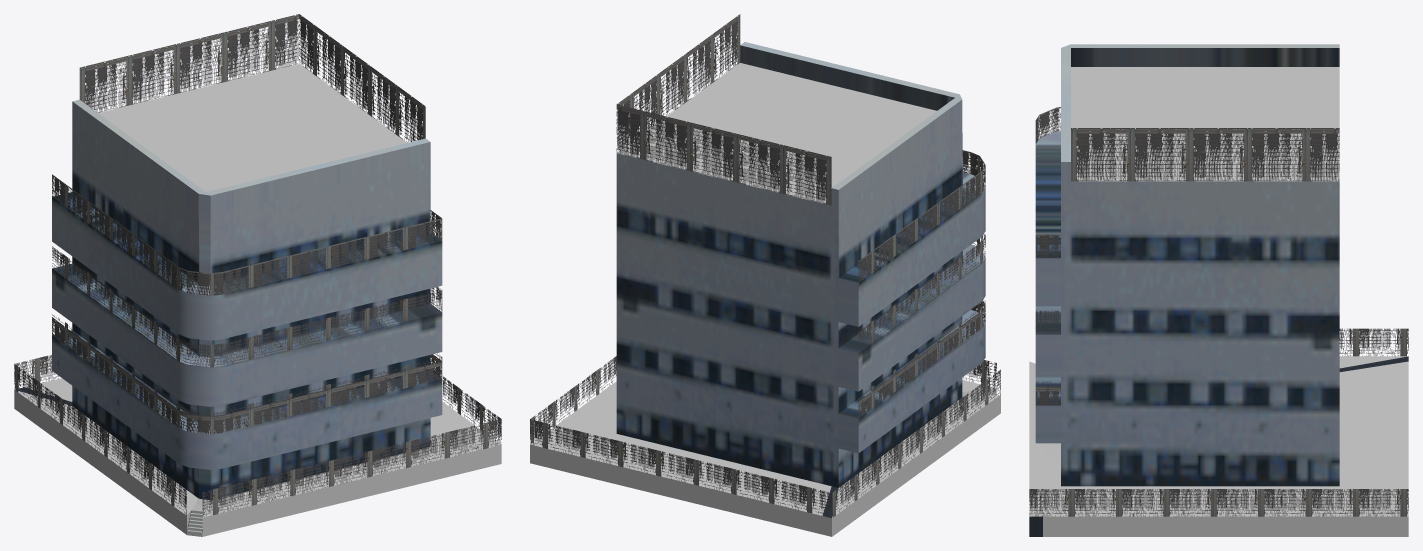
Rendered from yk_uudetrakennukset_jp1.fbx.
3 views of the same model, side by side, from view 1: azimuth 30°, elevation 25°; view 2: azimuth 150°, elevation 25°; view 3: azimuth 270°, elevation 25° (orthographic). The views are drawn at different scales.
Parts seen in each view (by area): view 1: Cube.005; view 2: Cube.005; view 3: Cube.005.
Part boxes in pixels (<box>): Cube.005: <box>14,14,501,536</box>; Cube.005: <box>530,14,1000,536</box>; Cube.005: <box>1029,44,1408,536</box>.
Size of the model in its own units: 561 by 620 by 561.
